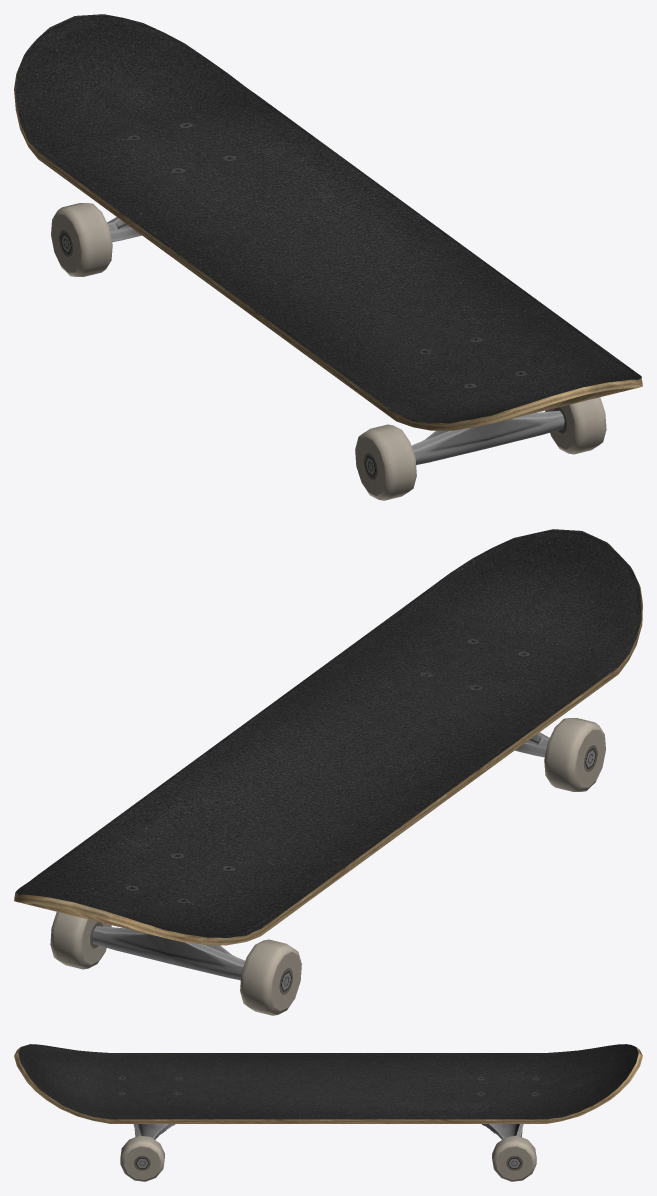
Rendered from SkateBoard.FBX.
3 views of the same model, one above another, from view 1: azimuth 30°, elevation 25°; view 2: azimuth 150°, elevation 25°; view 3: azimuth 270°, elevation 25° (orthographic). The views are drawn at different scales.
Visible parts, largest first — view 1: SkateBoard_LOD0, Wheel_2_LOD0, Wheel_4_LOD0, Wheel_1_LOD0; view 2: SkateBoard_LOD0, Wheel_4_LOD0, Wheel_2_LOD0, Wheel_3_LOD0; view 3: SkateBoard_LOD0, Wheel_1_LOD0, Wheel_3_LOD0.
Boxes of the visible parts, x1=… form: SkateBoard_LOD0: x1=14, y1=14, x2=642, y2=464; Wheel_2_LOD0: x1=355, y1=424, x2=416, y2=500; Wheel_4_LOD0: x1=51, y1=203, x2=112, y2=276; Wheel_1_LOD0: x1=545, y1=397, x2=606, y2=454; SkateBoard_LOD0: x1=14, y1=529, x2=642, y2=980; Wheel_4_LOD0: x1=240, y1=939, x2=301, y2=1015; Wheel_2_LOD0: x1=544, y1=718, x2=605, y2=791; Wheel_3_LOD0: x1=50, y1=912, x2=111, y2=969; SkateBoard_LOD0: x1=14, y1=1044, x2=642, y2=1139; Wheel_1_LOD0: x1=120, y1=1135, x2=164, y2=1181; Wheel_3_LOD0: x1=492, y1=1135, x2=536, y2=1181.
Size of what is drawn, in the model's own units: 0.2281 by 0.1562 by 0.9125.
